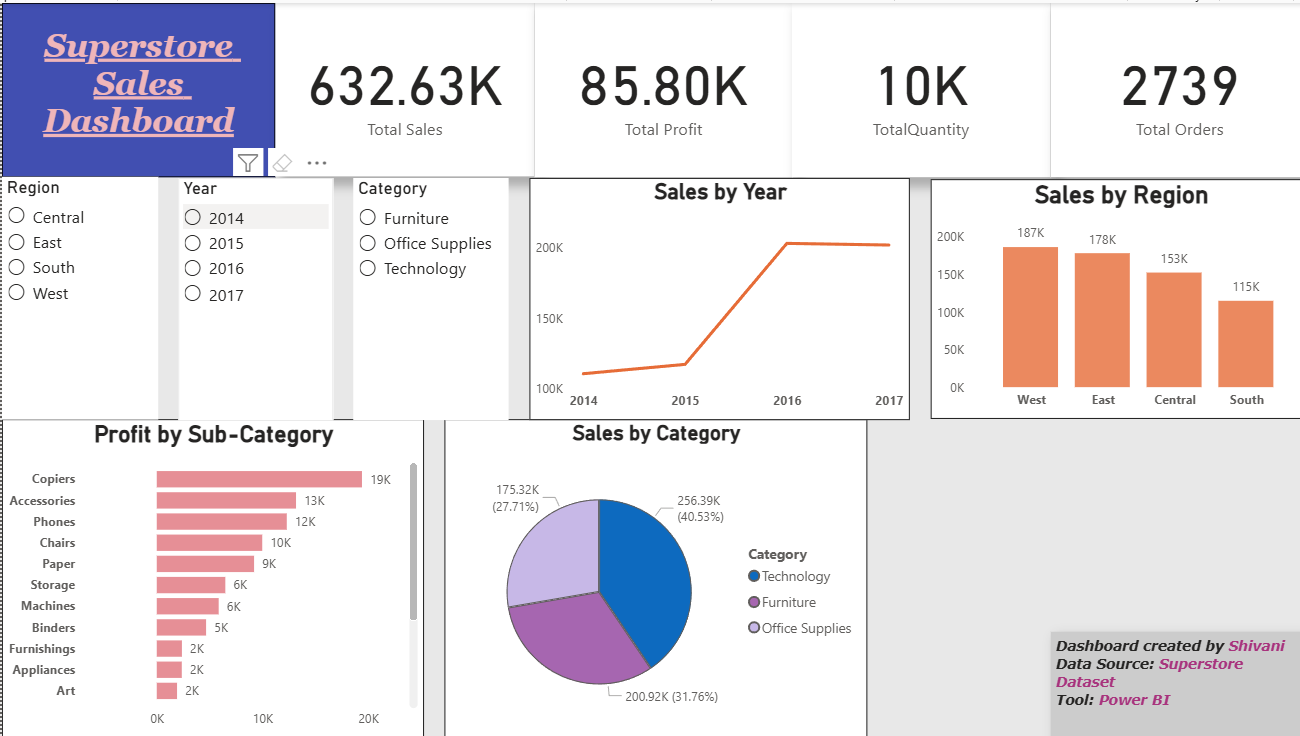

This screenshot's page, from the dashboard's own definition file:
{"tool":"powerbi","page":{"name":"Sales dashboard","canvas":[1280,720],"ordinal":0},"visuals":[{"type":"textbox","box":[0,0,267.6,170],"z":0},{"type":"card","fields":{"Values":["Sum(Data.Sales)"]},"box":[267.8,0,253.1,170],"z":1000},{"type":"card","fields":{"Values":["Sum(Data.Profit)"]},"box":[520.4,0,253,170],"z":2000},{"type":"card","fields":{"Values":["Sum(Data.Quantity)"]},"box":[773.2,0,252.8,170],"z":3000},{"type":"card","fields":{"Values":["CountNonNull(Data.Order ID)"]},"box":[1026,0,252.8,170],"z":4000},{"type":"clusteredColumnChart","title":"Sales by Region","fields":{"Category":["Data.Region"],"Y":["Sum(Data.Sales)"]},"box":[908,172.4,372,234.8],"z":5000},{"type":"pieChart","title":"Sales by Category","fields":{"Y":["Sum(Data.Sales)"],"Category":["Data.Category"]},"box":[433,407,413.3,313],"z":6000},{"type":"barChart","title":"Profit by Sub-Category","fields":{"Category":["Data.Sub-Category"],"Y":["Sum(Data.Profit)"]},"box":[0,407.2,413,313],"z":7000},{"type":"lineChart","title":"Sales by Year","fields":{"Y":["Sum(Data.Sales)"],"Category":["Data.Order Date.Variation.Date Hierarchy.Year"]},"box":[516,171.2,372,237],"z":8000},{"type":"listSlicer","fields":{"Values":["Data.Region"]},"box":[0,170,152.9,237.2],"z":9000},{"type":"listSlicer","fields":{"Values":["Data.Order Date.Variation.Date Hierarchy.Year"]},"box":[172,171.2,152,237],"z":10000},{"type":"listSlicer","fields":{"Values":["Data.Category"]},"box":[344,171.2,152,237],"z":11000},{"type":"textbox","box":[1026,615.1,254.3,105.2],"z":11001}]}

Visuals, with their boxes in screenshot pixels (x1, y1, x2, y2), scaled from the page's 1280x720 canvas onto the 1300x736 screenshot:
textbox: 0 0 272 174
card - Sum(Data.Sales): 272 0 529 174
card - Sum(Data.Profit): 529 0 785 174
card - Sum(Data.Quantity): 785 0 1042 174
card - CountNonNull(Data.Order ID): 1042 0 1299 174
"Sales by Region" clusteredColumnChart: 922 176 1299 416
"Sales by Category" pieChart: 440 416 860 735
"Profit by Sub-Category" barChart: 0 416 419 735
"Sales by Year" lineChart: 524 175 902 417
listSlicer - Data.Region: 0 174 155 416
listSlicer - Data.Order Date.Variation.Date Hierarchy.Year: 175 175 329 417
listSlicer - Data.Category: 349 175 504 417
textbox: 1042 629 1299 735
